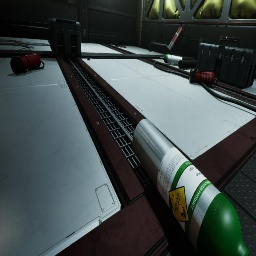0: (132, 119, 249, 256), (160, 54, 182, 66)
FireExtinguisher ]: (10, 53, 44, 75), (189, 68, 219, 86)
NitrogenTank ,: (167, 24, 185, 55)
